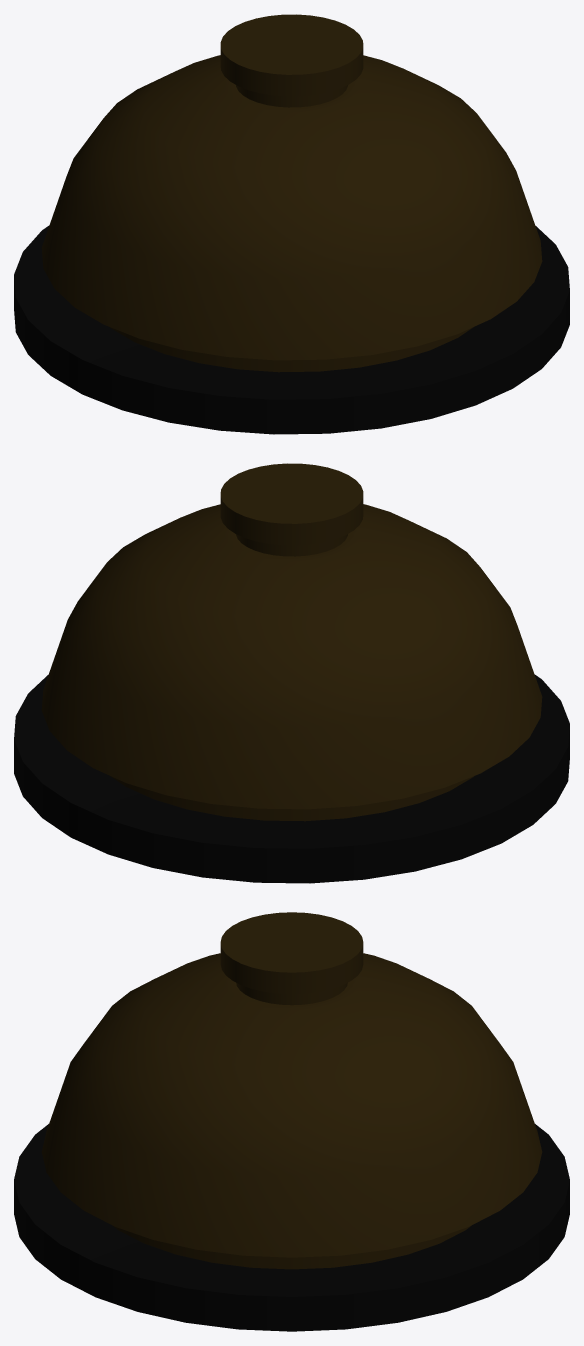
Rendered from bell.obj.
The picture shows the model from 3 angles, top to bottom: view 1: azimuth 30°, elevation 25°; view 2: azimuth 150°, elevation 25°; view 3: azimuth 270°, elevation 25°; orthographic projection.
Parts seen in each view (by area): view 1: bell; view 2: bell; view 3: bell.
Boxes of the visible parts, x1,y1,x2,y2 form: bell: (14, 14, 569, 434); bell: (14, 463, 569, 883); bell: (14, 912, 569, 1331).
Size of the model in its own units: 1.28 by 0.6917 by 1.28.
Materials: 2 (1 with a texture image).
